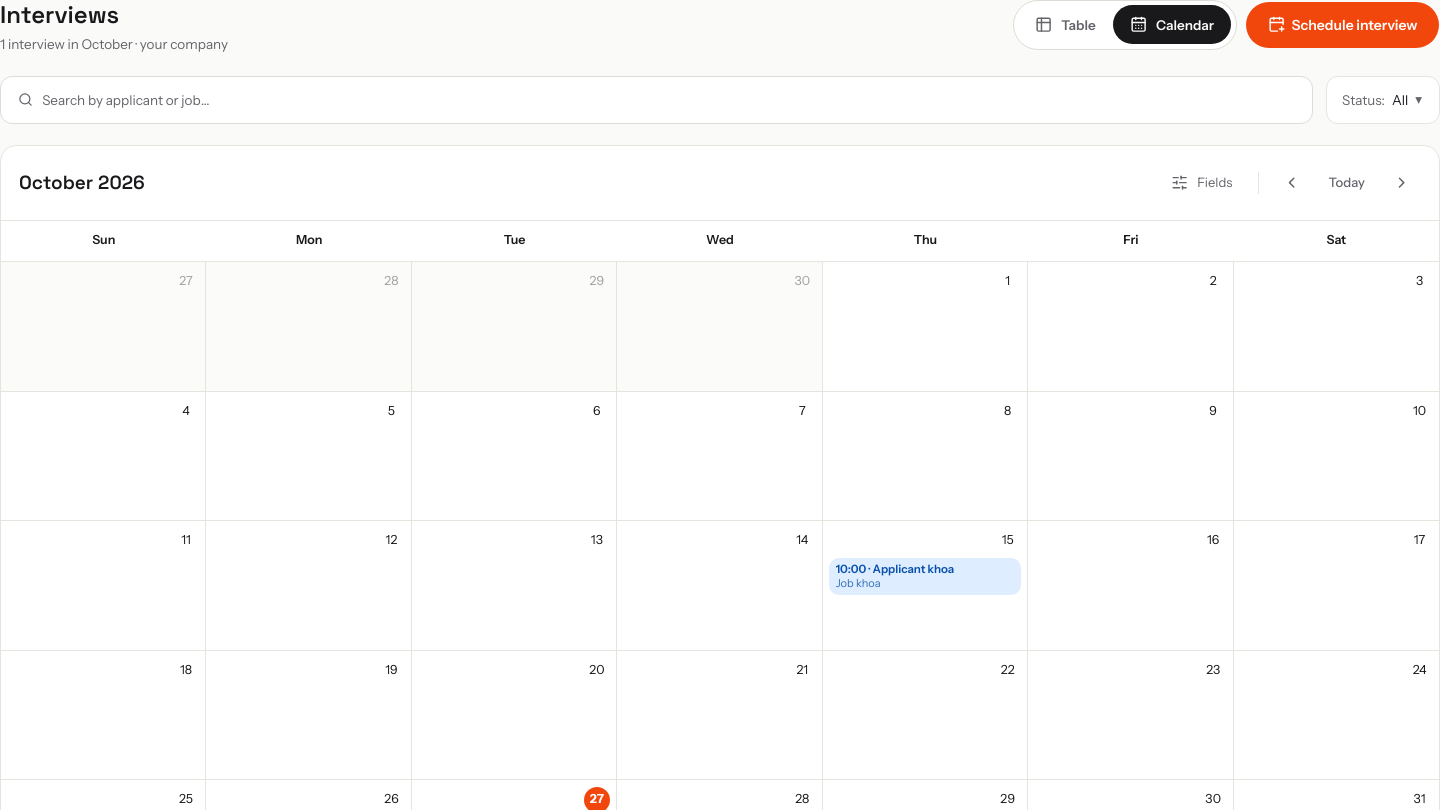
Scenario: Recruiter interviews calendar › cancels from the summary: the summary closes and the confirmation opens
The image size is (1440, 810).
Click the text "10:00 · Applicant khoa" at (895, 569), box [836,562,954,576]
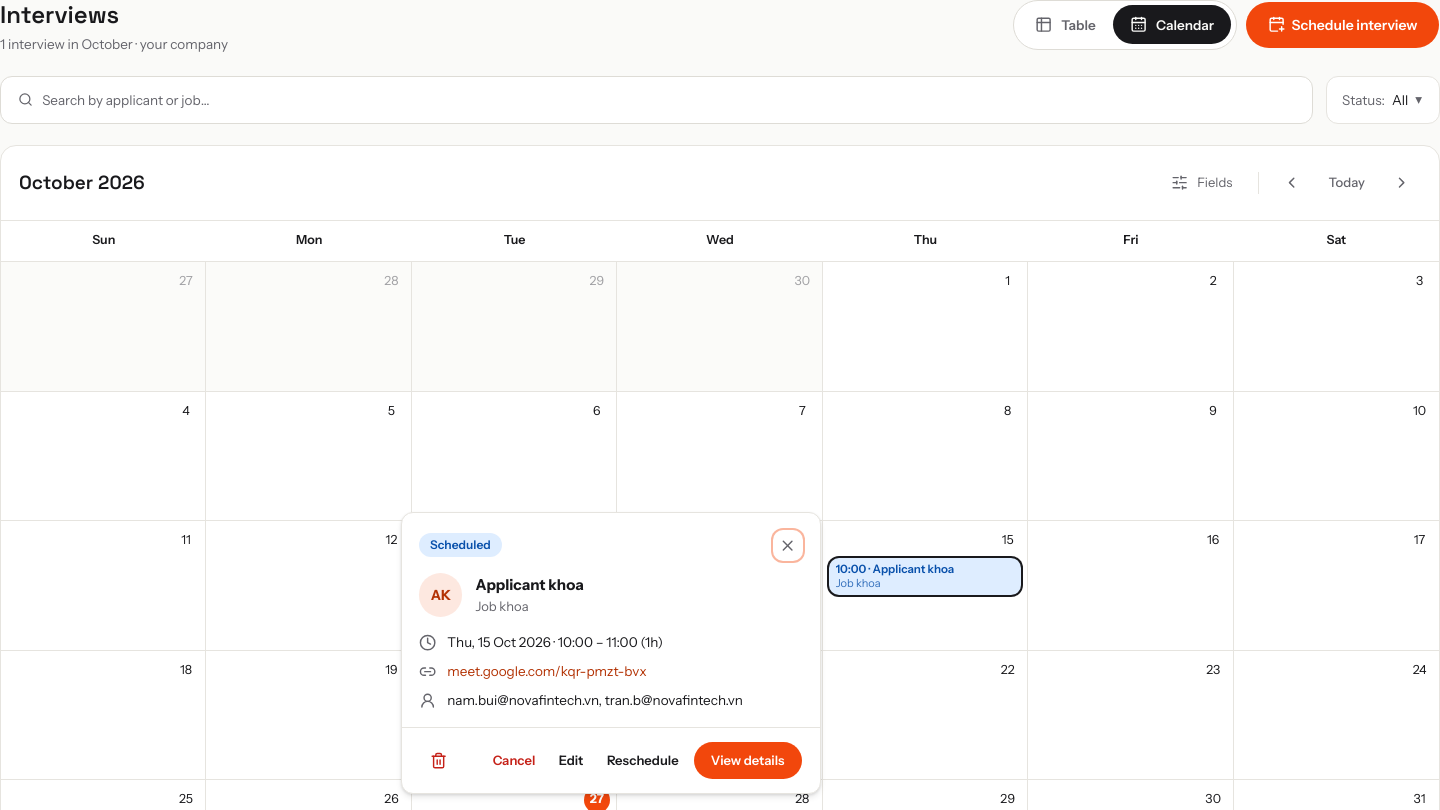
Click the button "Cancel" at (514, 760), box [483,741,545,780]
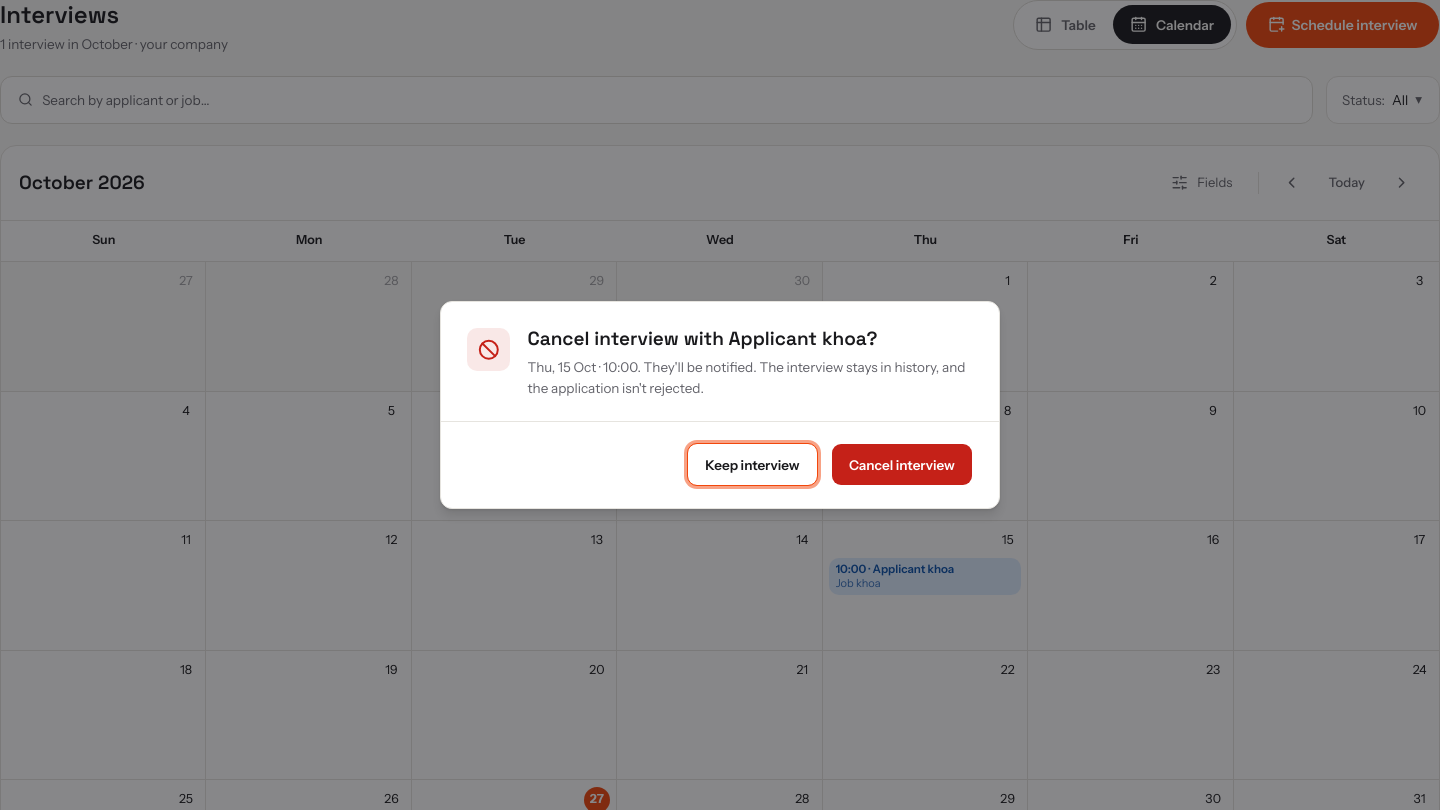
Check: the dialog "Cancel interview with Applicant khoa?" is shown, box [440,301,1000,509]
Check: the text "Thu, 15 Oct 2026 · 10:00 – 11:00 (1h)" is gone
